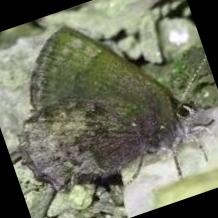butterfly: (19, 27, 195, 190)
